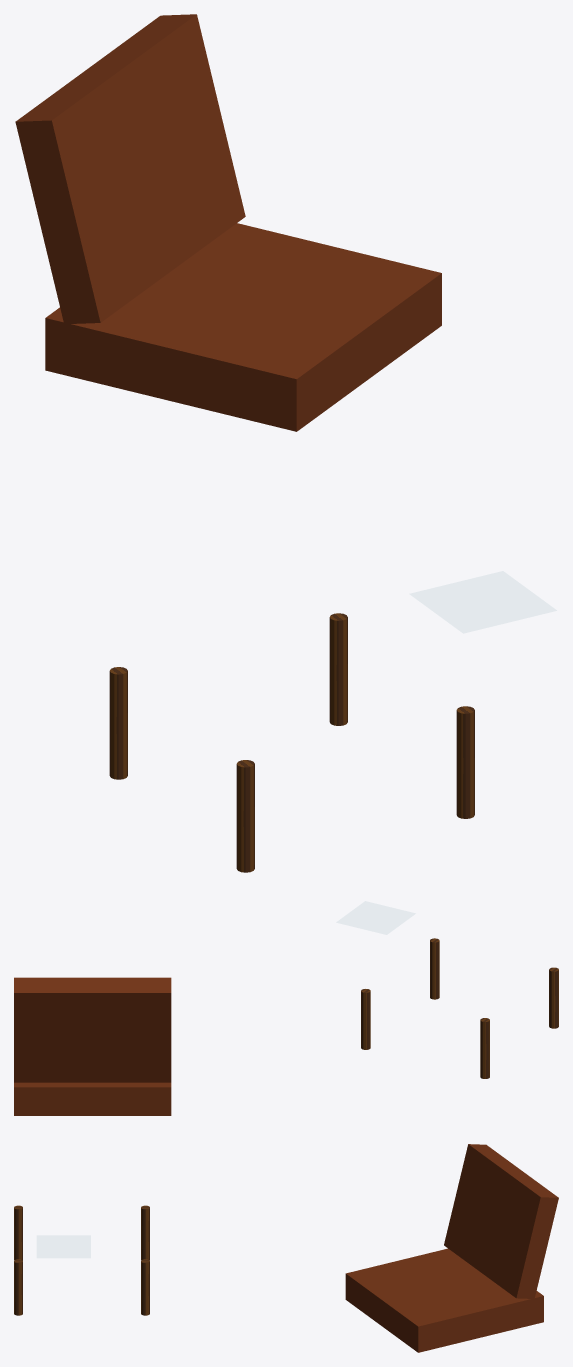
Rendered from butaca-ascii.fbx.
The picture shows the model from 3 angles, top to bottom: view 1: azimuth 30°, elevation 25°; view 2: azimuth 150°, elevation 25°; view 3: azimuth 270°, elevation 25°; orthographic projection. The views are drawn at different scales.
Visible parts, largest first — view 1: Asiento, Respaldo, Bandeja, Pata 1, Pata 2, Pata 3, Pata 4; view 2: Respaldo, Asiento, Bandeja, Pata 1, Pata 2, Pata 3, Pata 4; view 3: Asiento, Respaldo, Bandeja, Pata 2, Pata 4, Pata 1, Pata 3.
Boxes of the visible parts, x1=… form: Asiento: x1=45, y1=223, x2=441, y2=431; Respaldo: x1=15, y1=14, x2=245, y2=324; Bandeja: x1=410, y1=571, x2=556, y2=633; Pata 1: x1=236, y1=760, x2=254, y2=872; Pata 2: x1=456, y1=706, x2=474, y2=818; Pata 3: x1=109, y1=667, x2=127, y2=779; Pata 4: x1=329, y1=613, x2=347, y2=725; Respaldo: x1=14, y1=977, x2=171, y2=1082; Asiento: x1=14, y1=1082, x2=171, y2=1115; Bandeja: x1=336, y1=901, x2=415, y2=934; Pata 1: x1=549, y1=967, x2=558, y2=1028; Pata 2: x1=430, y1=938, x2=439, y2=999; Pata 3: x1=480, y1=1018, x2=489, y2=1078; Pata 4: x1=361, y1=989, x2=370, y2=1049; Asiento: x1=345, y1=1248, x2=543, y2=1352; Respaldo: x1=444, y1=1144, x2=558, y2=1298; Bandeja: x1=37, y1=1235, x2=90, y2=1257; Pata 2: x1=14, y1=1259, x2=22, y2=1315; Pata 4: x1=141, y1=1259, x2=149, y2=1315; Pata 1: x1=14, y1=1205, x2=22, y2=1260; Pata 3: x1=141, y1=1205, x2=149, y2=1260.
Size of the model in its own units: 192 by 109 by 300.
3 materials, 1 textured.
